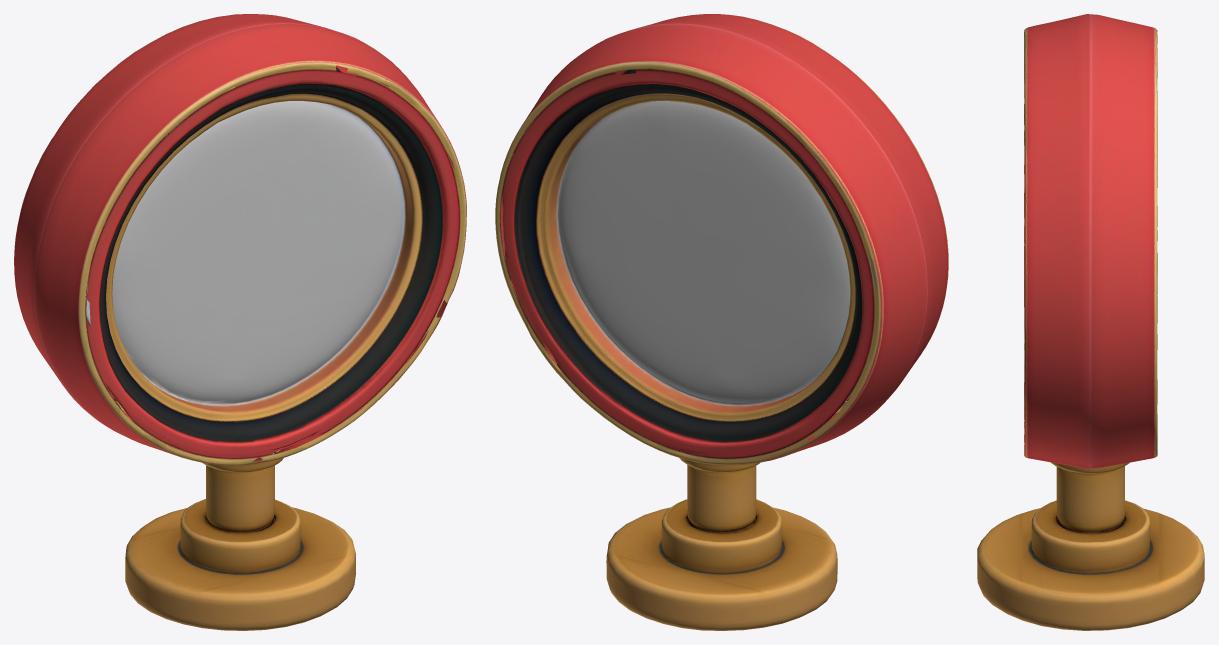
File: tripo_convert_cb812d58-a072-4618-8728-24dcc656aabd.fbx
3 renders of one model, left to right at view 1: azimuth 30°, elevation 25°; view 2: azimuth 150°, elevation 25°; view 3: azimuth 270°, elevation 25°, orthographic.
Visible parts, largest first — view 1: tripo_node_cb812d58; view 2: tripo_node_cb812d58; view 3: tripo_node_cb812d58.
Boxes of the visible parts, <box> form: tripo_node_cb812d58: <box>14,14,466,630</box>; tripo_node_cb812d58: <box>495,14,948,630</box>; tripo_node_cb812d58: <box>977,14,1204,630</box>.
Bounding box in the file's own units: 0.7565 × 0.9767 × 0.3656.
1 material, 1 textured.
